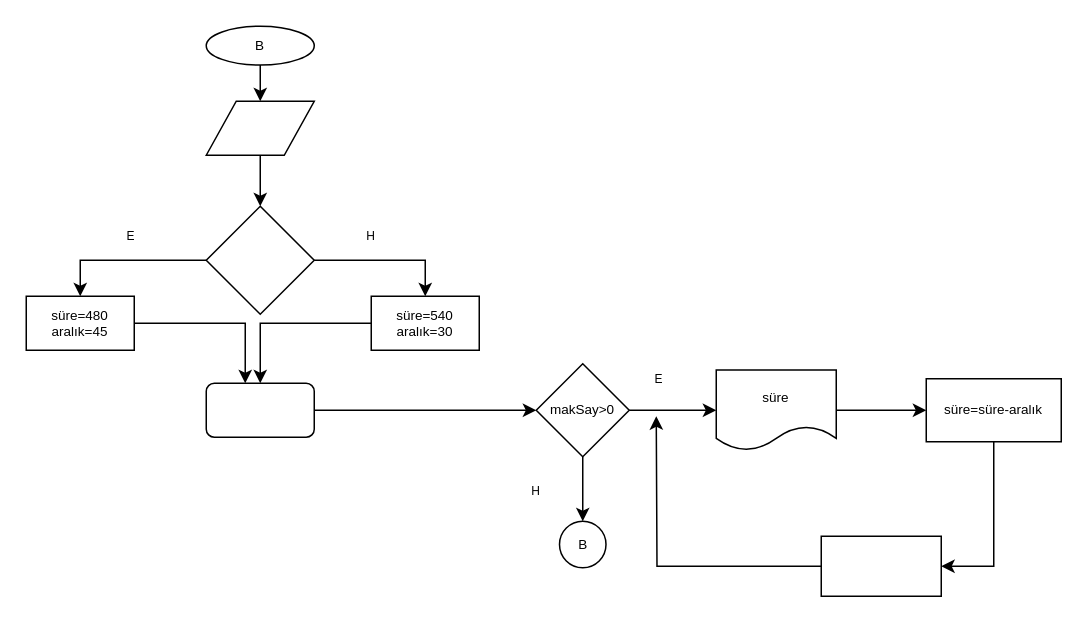
This 1088x623 diagram has some shape labels left out. The shapes that lost their labels are listed below. From the top down, each one's box as (x1, y1, x2, y2) in pixels, then its label:
(205, 100, 314, 155): makine sayısı ay
(205, 205, 314, 314): ay>2 ve ay<9
(205, 382, 314, 437): i=makinesayısı
(820, 535, 941, 596): i=i-1
